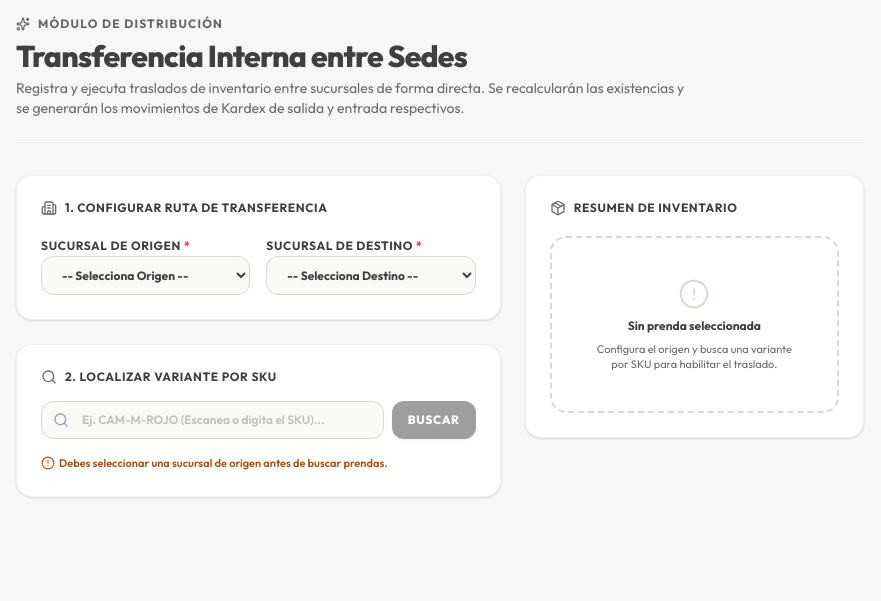
Test: TransferPage Component Tests › searches for variant by SKU and allows typing transfer quantity
The width and height of the screenshot is (881, 601).
Select source branch
Select "Sede Principal" in the 1st dropdown. click: (146, 276)
box: x1=41 y1=256 x2=250 y2=295
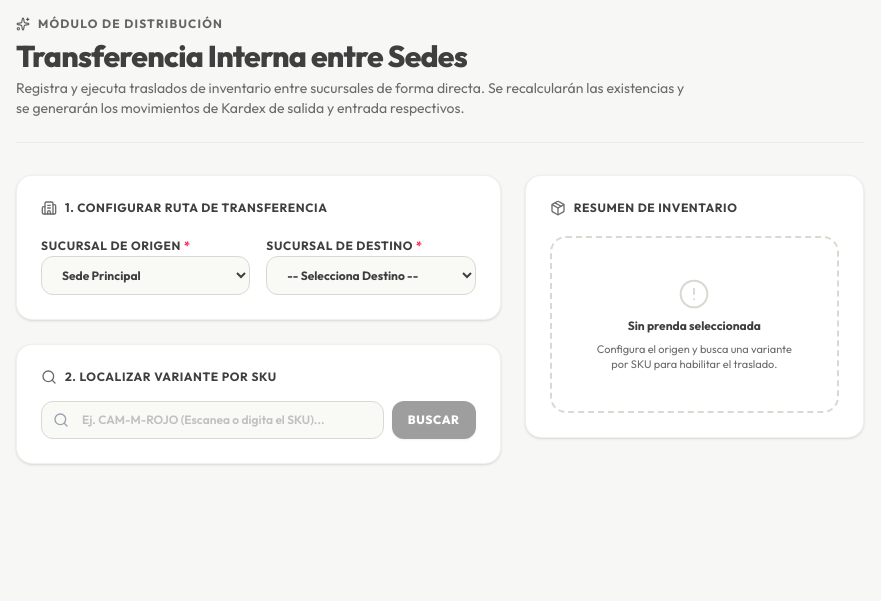
Search by SKU
Type "CAM-M-ROJO" into the field with placeholder "Ej. CAM-M-ROJO (Escanea o digita el SKU)...". click: (212, 420)
box: x1=41 y1=401 x2=384 y2=439
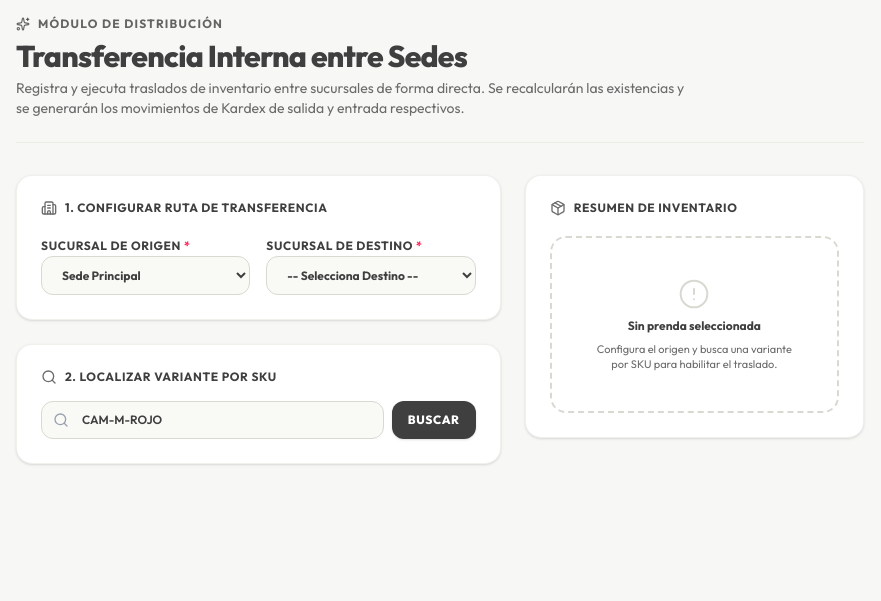
Click the button "Buscar". click: (434, 420)
box: x1=392 y1=401 x2=476 y2=439
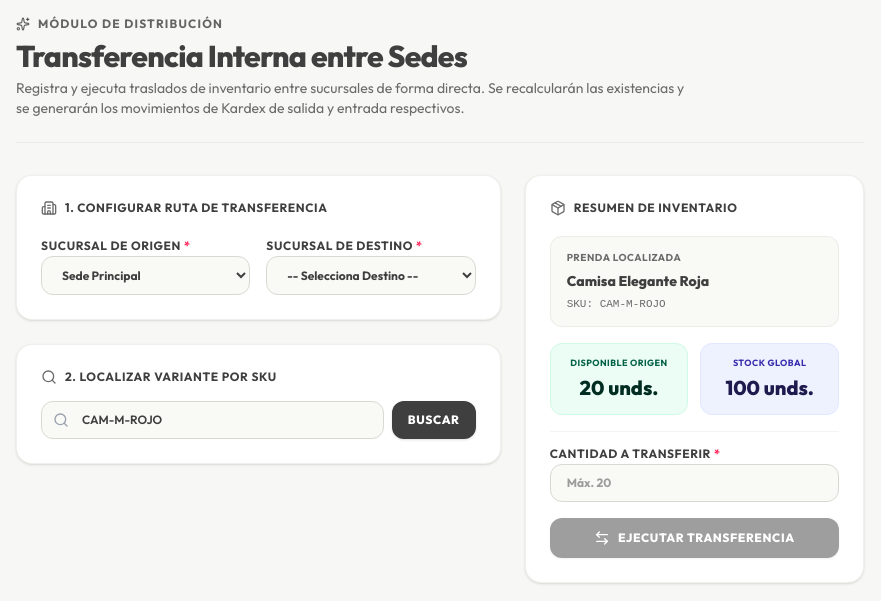
Now the text "Camisa Elegante Roja" is shown, box x1=567 y1=272 x2=709 y2=290
Now the text "20 unds." is shown, box x1=580 y1=374 x2=658 y2=400
Now the number field with placeholder "Máx. 20" is shown, box x1=550 y1=464 x2=839 y2=502
